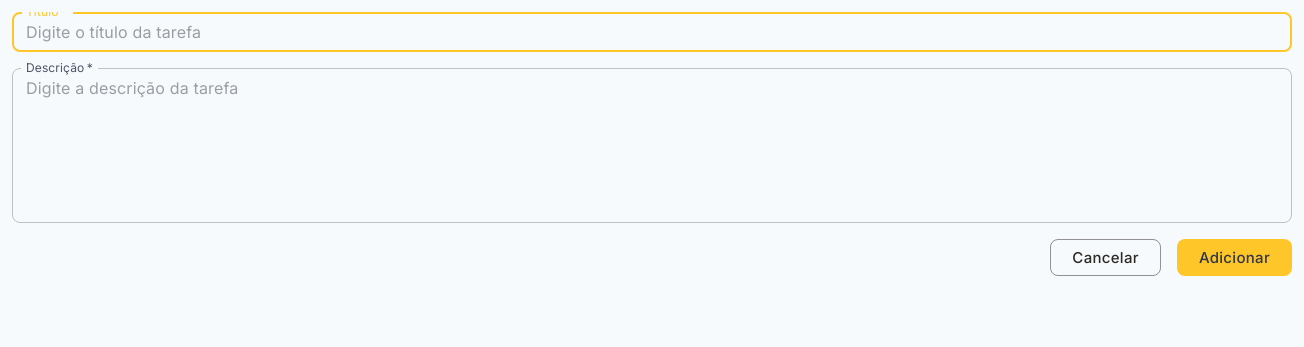
Scenario: FormCreateTask › should show error when title is empty
Click the button "Adicionar" at (1234, 258), box [1177, 239, 1292, 276]
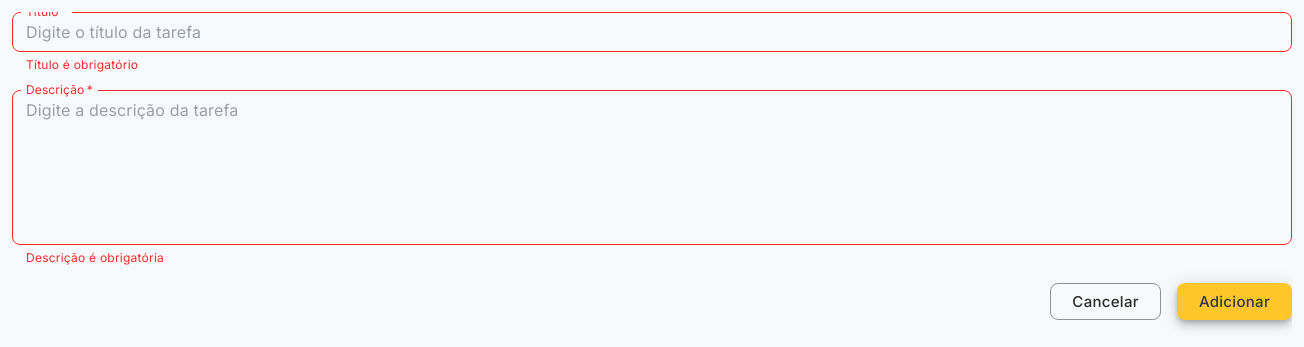
Expected: the text "Título é obrigatório" is shown, [26, 57, 138, 72]
